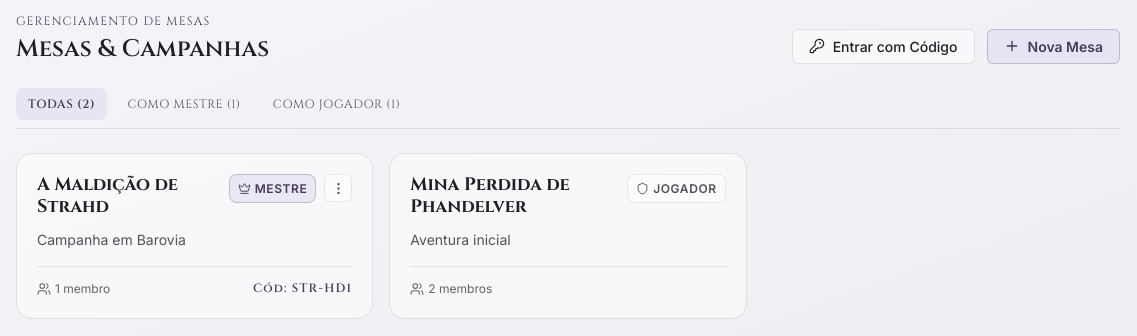
Test case: CampaignsPage › filtra as mesas ao clicar nas abas
The width and height of the screenshot is (1137, 336).
Note: Clica em "Como Mestre"
Click the button "Como Mestre (1)" at [184, 104], box [115,88,253,120]
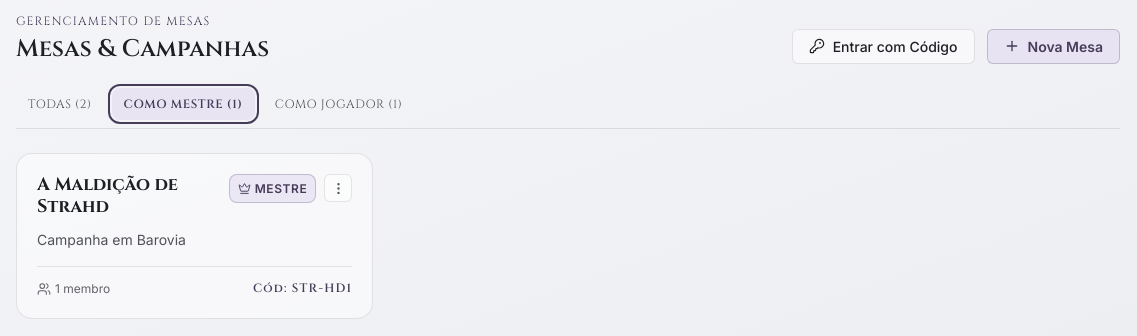
Check: the link "A Maldição de Strahd" is shown, box [37,172,178,219]
Check: the link "Mina Perdida de Phandelver" is gone
Note: Clica em "Como Jogador"
Click the button "Como Jogador (1)" at [338, 104], box [263,88,414,120]
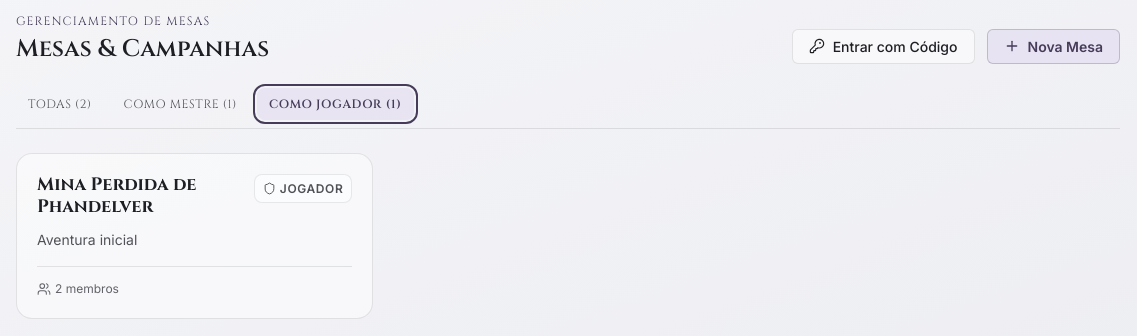
Check: the link "A Maldição de Strahd" is gone
Check: the link "Mina Perdida de Phandelver" is shown, box [37,172,196,219]
